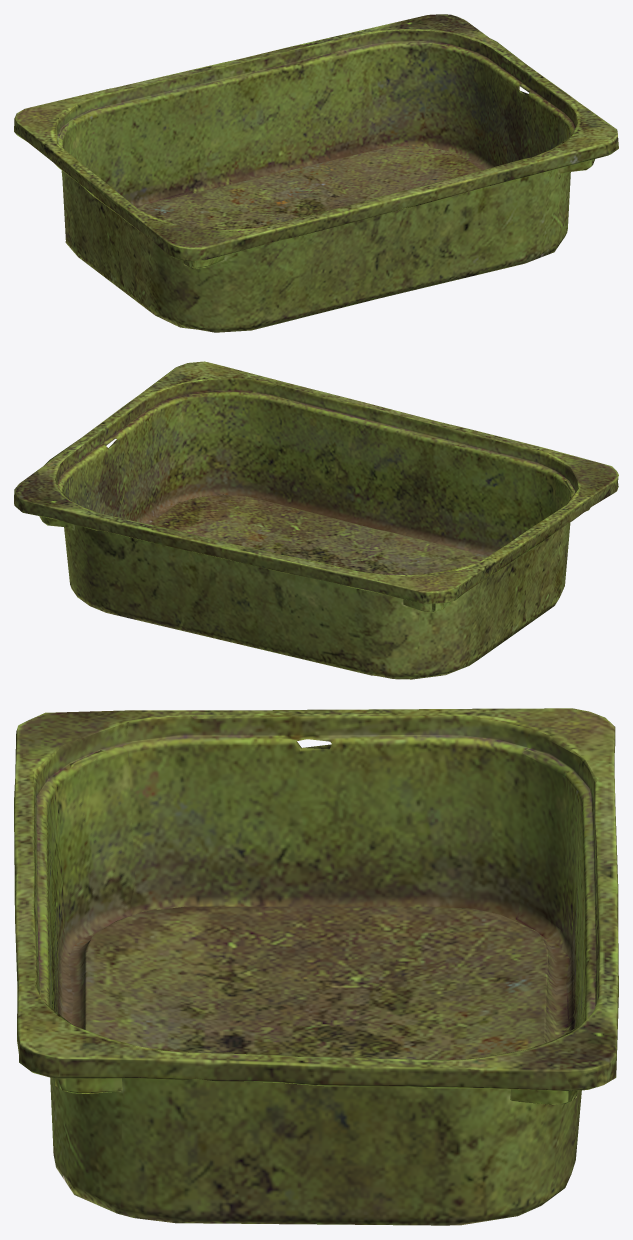
File: SM_Ind_War_Storage_Tray_Plastic_Green_01.gltf
3 renders of one model, top to bottom at view 1: azimuth 30°, elevation 25°; view 2: azimuth 150°, elevation 25°; view 3: azimuth 270°, elevation 25°, orthographic. The views are drawn at different scales.
Visible parts, largest first — view 1: SM_Ind_War_Storage_Tray_Plastic_Green_01; view 2: SM_Ind_War_Storage_Tray_Plastic_Green_01; view 3: SM_Ind_War_Storage_Tray_Plastic_Green_01.
Part boxes in pixels (<box>): SM_Ind_War_Storage_Tray_Plastic_Green_01: <box>14,14,618,332</box>; SM_Ind_War_Storage_Tray_Plastic_Green_01: <box>14,361,618,679</box>; SM_Ind_War_Storage_Tray_Plastic_Green_01: <box>14,708,618,1225</box>.
Size of the model in its own units: 0.4157 by 0.1032 by 0.2961.
1 material, 1 textured.
